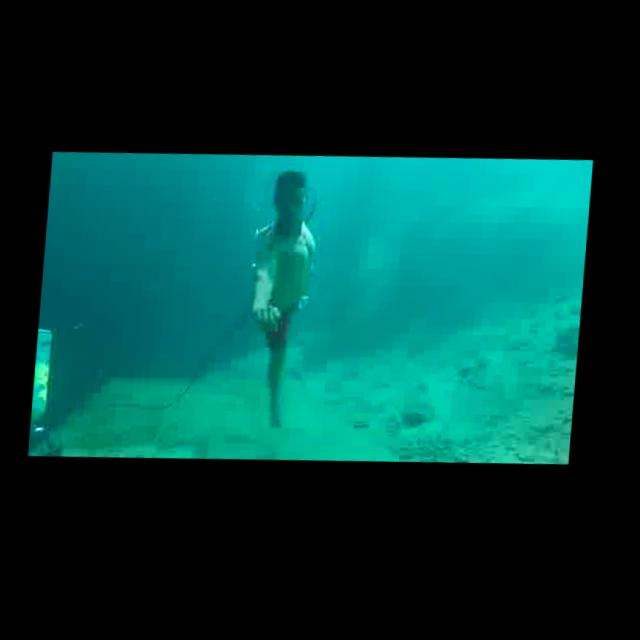human: (233, 167, 325, 437)
